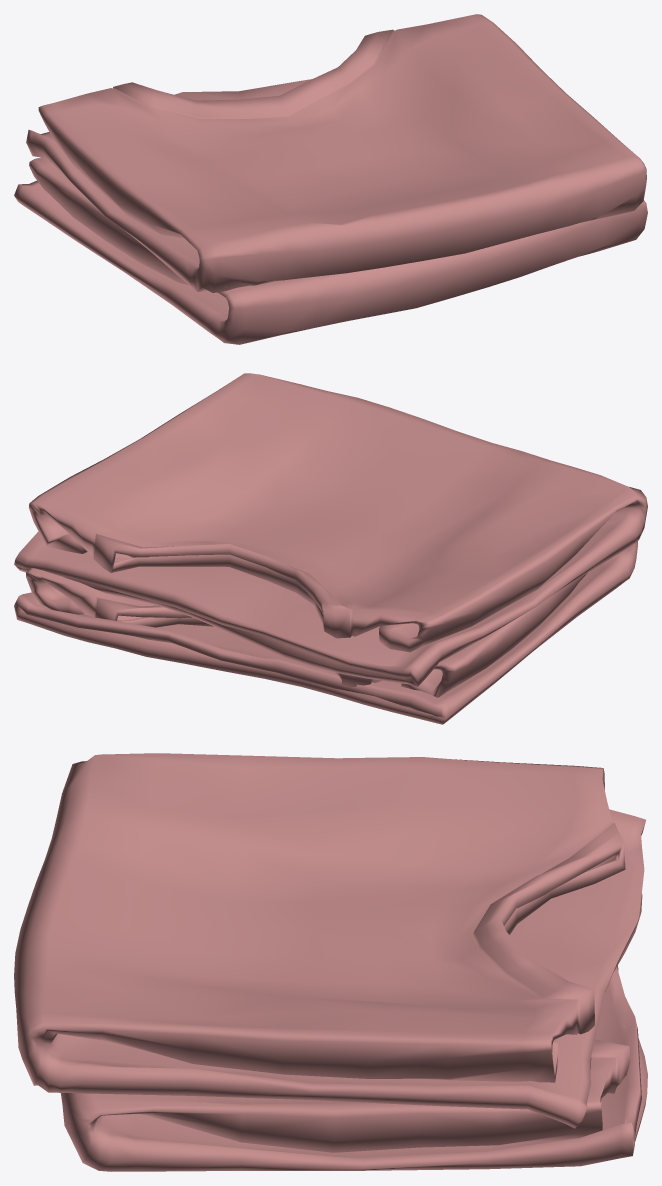
The model's file is Folded_T_Shirt25.fbx.
The picture shows the model from 3 angles, top to bottom: view 1: azimuth 30°, elevation 25°; view 2: azimuth 150°, elevation 25°; view 3: azimuth 270°, elevation 25°; orthographic projection. The views are drawn at different scales.
Visible parts, largest first — view 1: Folded_T_Shirt25; view 2: Folded_T_Shirt25; view 3: Folded_T_Shirt25.
Boxes of the visible parts, box(x1,y1,x2,y2) form: Folded_T_Shirt25: box(14, 14, 647, 344); Folded_T_Shirt25: box(14, 373, 647, 724); Folded_T_Shirt25: box(14, 753, 647, 1171).
Size of the model in its own units: 38.34 by 8.12 by 33.9.
Materials: 1 (1 with a texture image).
